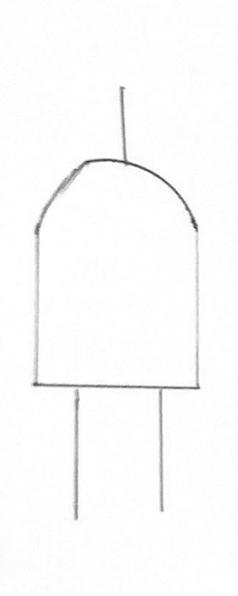AND: (15, 137, 219, 403)
